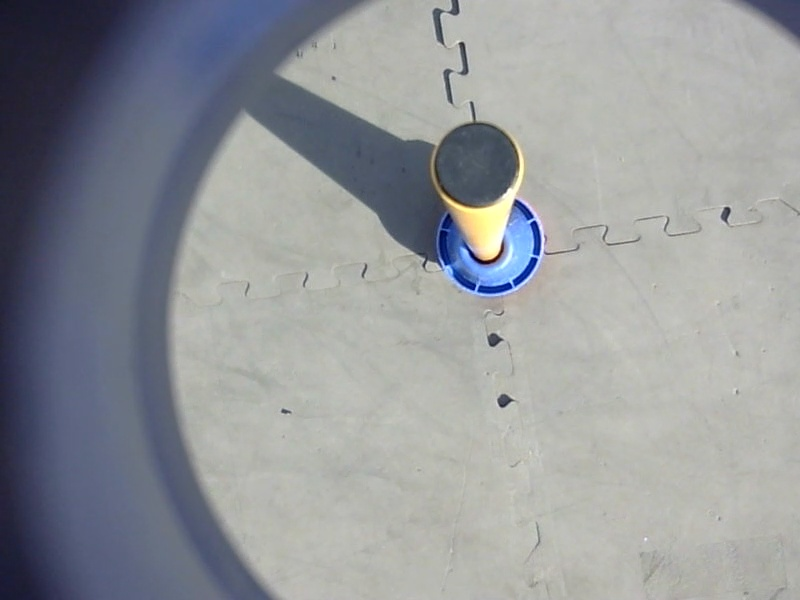tip: (426, 116, 527, 215)
